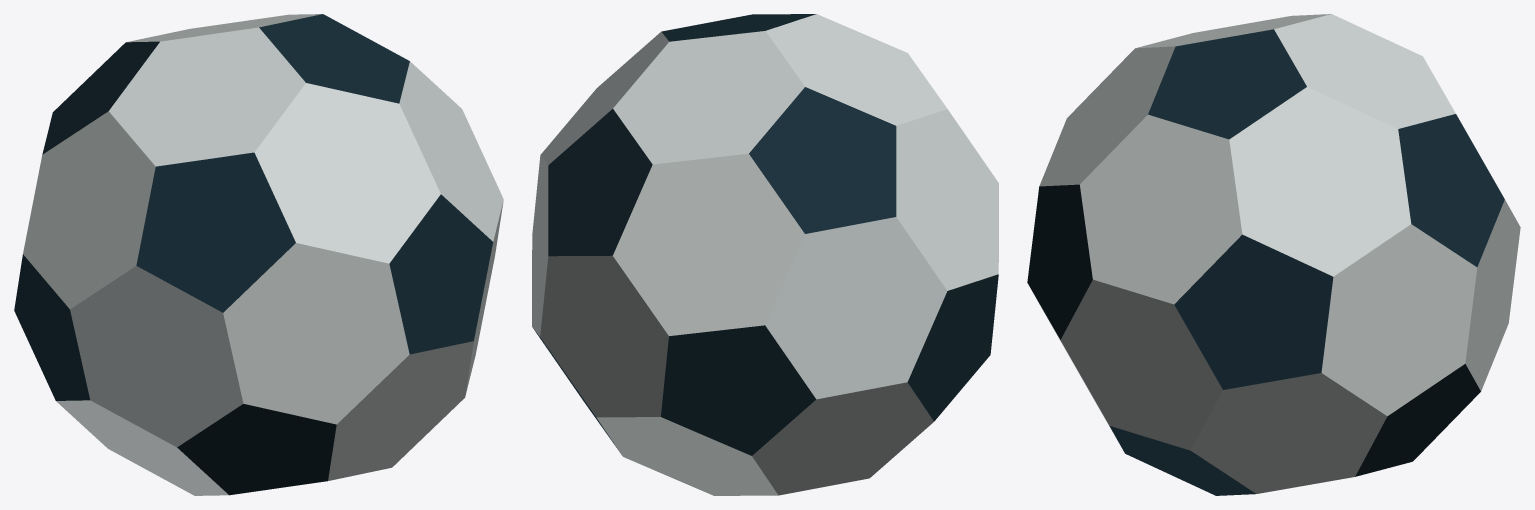
File: soccer-ball.glb
The picture shows the model from 3 angles, left to right: view 1: azimuth 30°, elevation 25°; view 2: azimuth 150°, elevation 25°; view 3: azimuth 270°, elevation 25°; orthographic projection.
Visible parts, largest first — view 1: soccer_ball; view 2: soccer_ball; view 3: soccer_ball.
Part boxes in pixels (box(x1,y1,x2,y2)): soccer_ball: box(14, 14, 503, 495); soccer_ball: box(532, 14, 998, 495); soccer_ball: box(1027, 14, 1520, 495).
Size of the model in its own units: 0.2155 by 0.22 by 0.2179.
